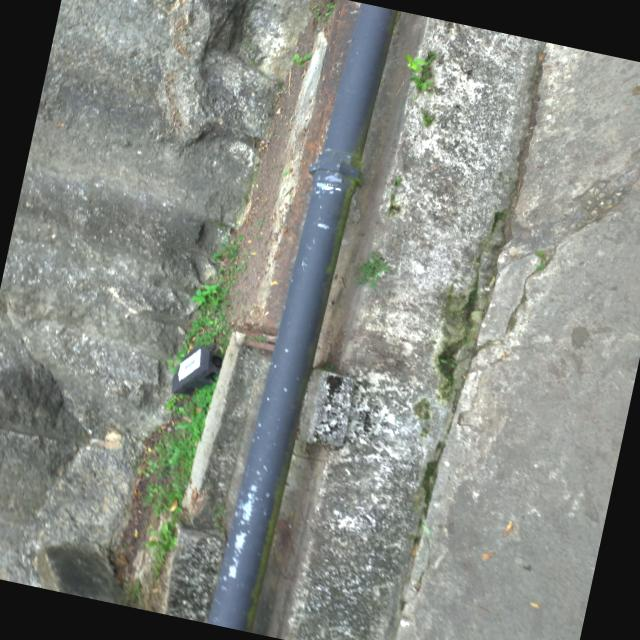gas: (207, 0, 395, 635)
